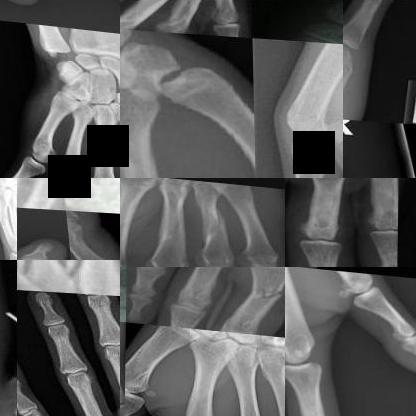fracture: (46, 260, 119, 286), (238, 267, 284, 305), (153, 205, 195, 242), (194, 199, 235, 235), (343, 49, 361, 83), (17, 190, 49, 208), (82, 98, 104, 122), (0, 202, 10, 229)
